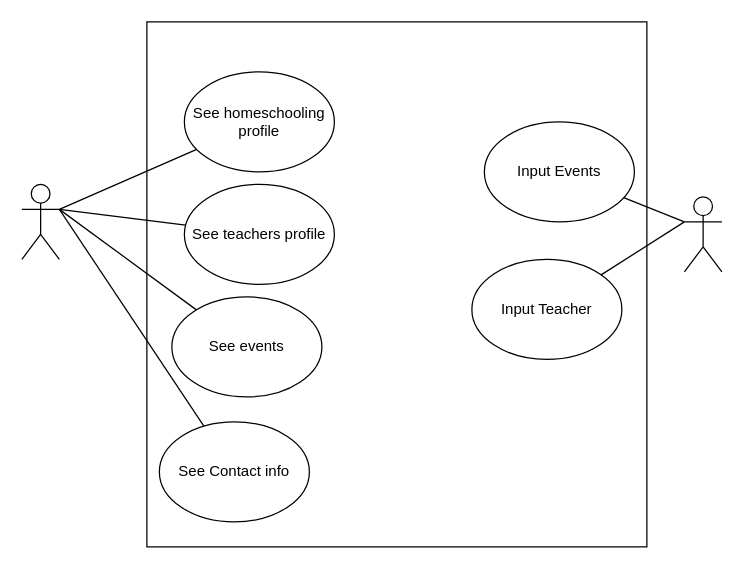
Image size: 746x569. Some labels were removed from this diagram. Each missing label, with the centre of its shape:
"Actor" goes at point (40, 221).
"Admin" goes at point (702, 234).
